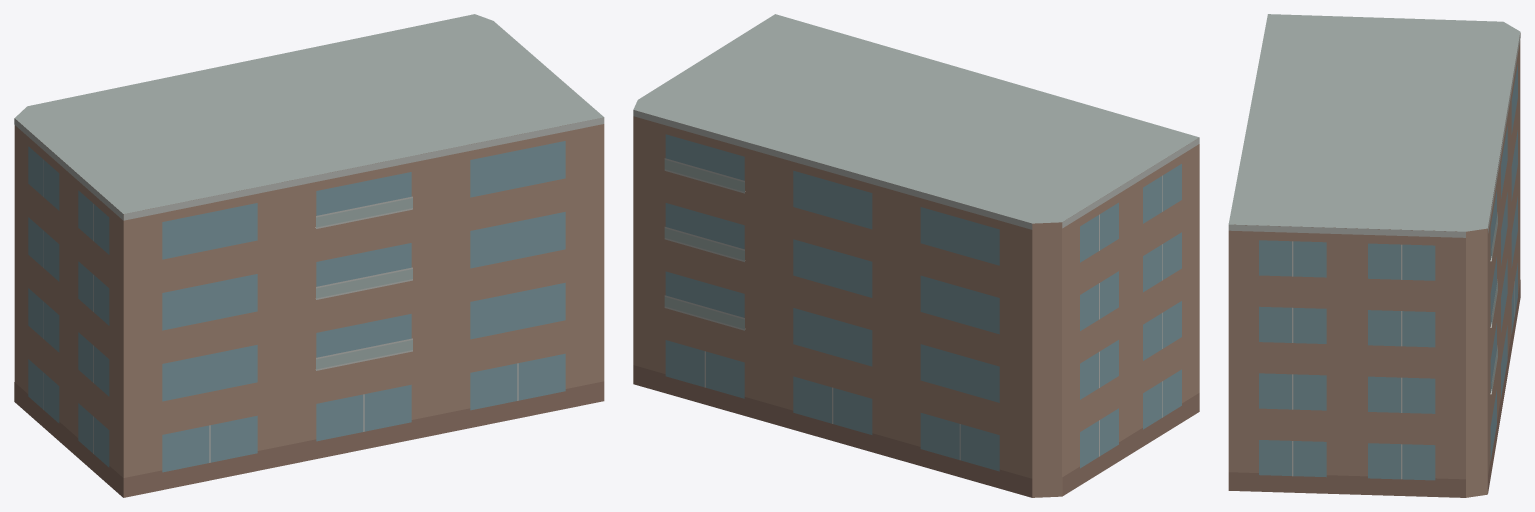
The model's file is survey-upis-32915892.glb.
3 renders of one model, left to right at view 1: azimuth 30°, elevation 25°; view 2: azimuth 150°, elevation 25°; view 3: azimuth 270°, elevation 25°, orthographic. The views are drawn at different scales.
Parts seen in each view (by area): view 1: survey-upis-32915892.tmp; view 2: survey-upis-32915892.tmp; view 3: survey-upis-32915892.tmp.
Boxes of the visible parts, x1,y1,x2,y2 form: survey-upis-32915892.tmp: [14, 14, 604, 497]; survey-upis-32915892.tmp: [633, 14, 1199, 497]; survey-upis-32915892.tmp: [1228, 14, 1520, 497].
Size of the model in its own units: 18.43 by 10.5 by 10.45.
